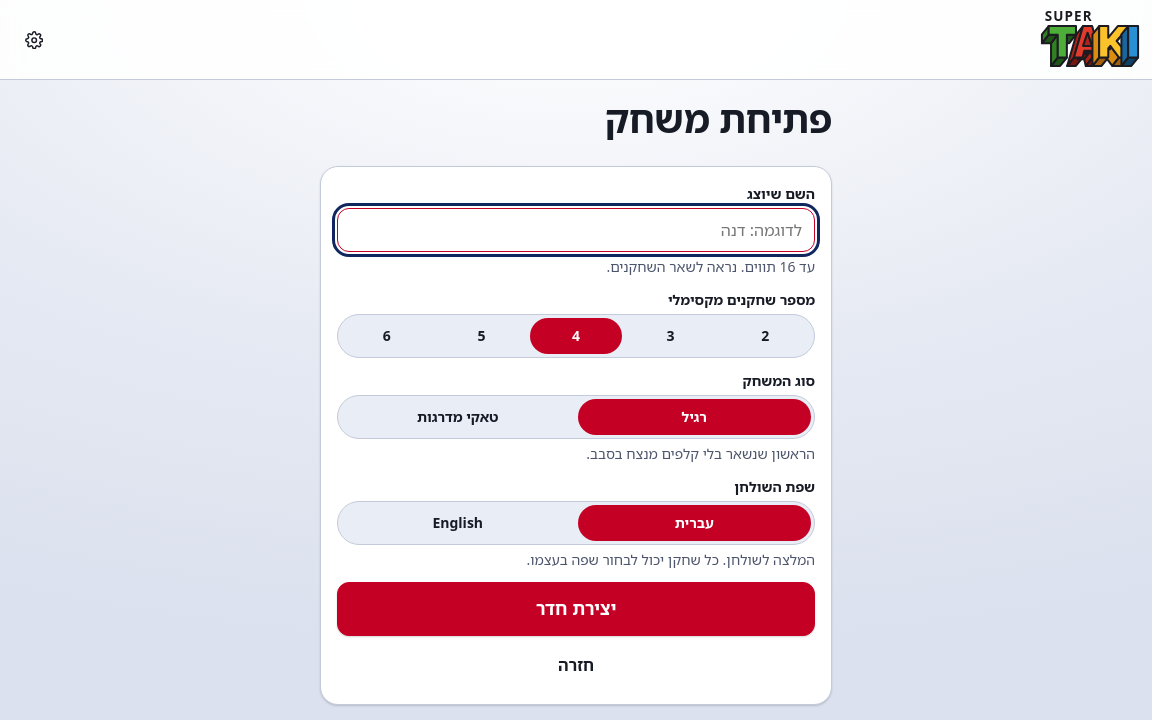
it: create room form › requires a display name
Click the button "יצירת חדר". click: (576, 609)
box: [337, 582, 815, 636]
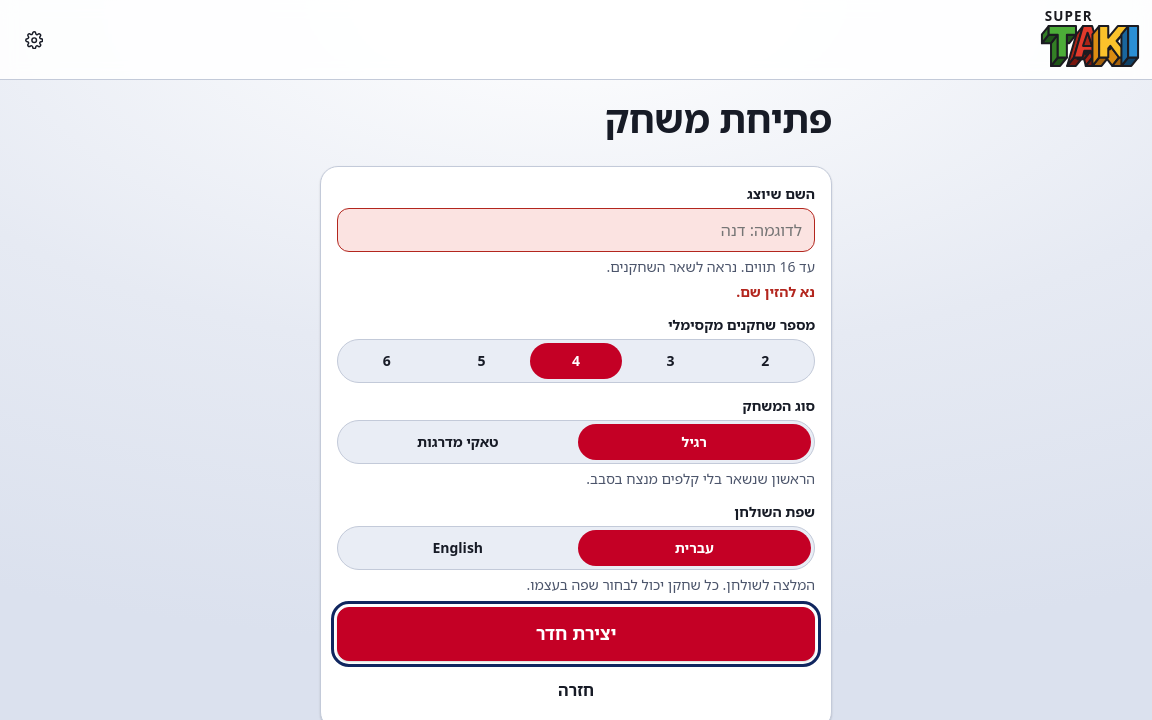
Now the message shows "נא להזין שם", box [736, 282, 815, 301]
